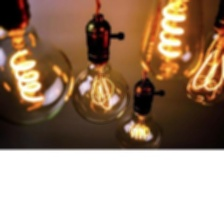light_bulb: (0, 0, 78, 129), (66, 16, 134, 127), (136, 0, 208, 83), (178, 3, 224, 109), (108, 78, 168, 155)
